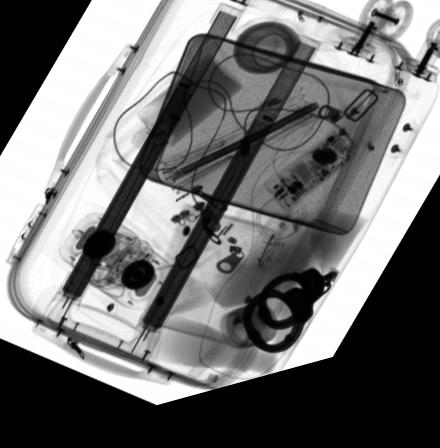HandCuffs: (241, 283, 337, 367)
